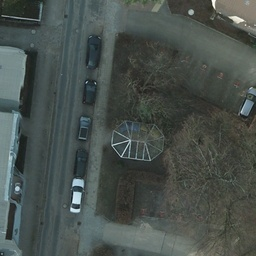car: (237, 86, 256, 118), (86, 34, 101, 67), (70, 180, 85, 212), (76, 114, 91, 141), (83, 79, 97, 105), (74, 150, 87, 175)
